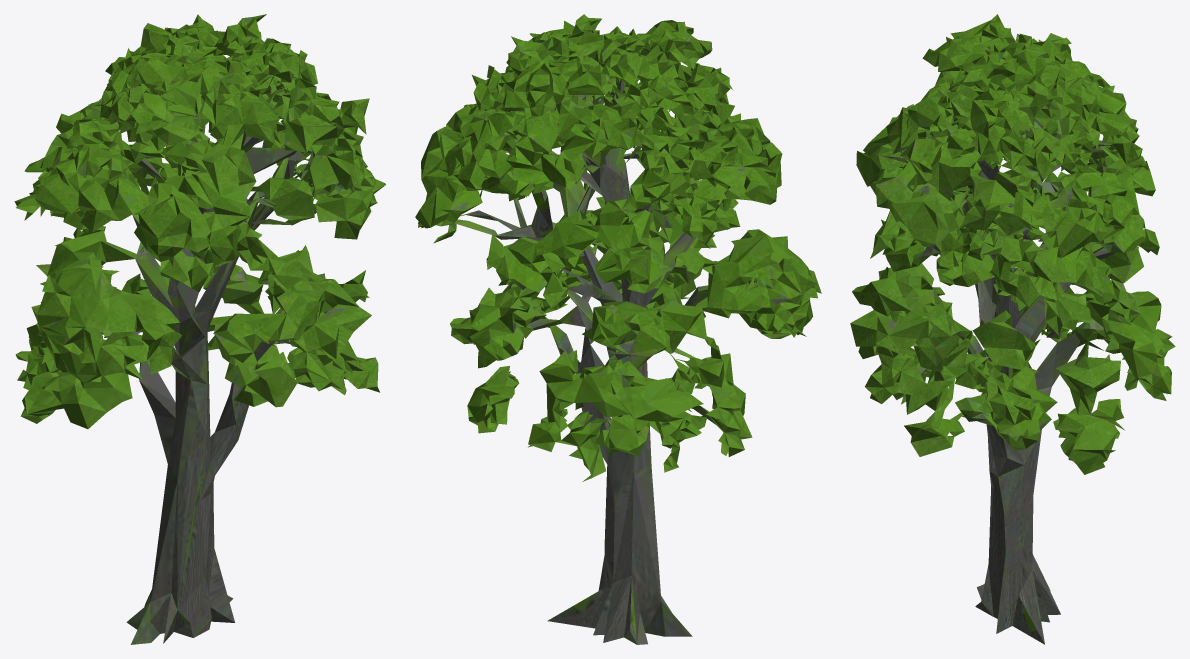
The model's file is tree.glb.
3 views of the same model, side by side, from view 1: azimuth 30°, elevation 25°; view 2: azimuth 150°, elevation 25°; view 3: azimuth 270°, elevation 25° (orthographic). The views are drawn at different scales.
Size of the model in its own units: 1.16 by 1.87 by 0.9568.
Materials: 1 (1 with a texture image).
